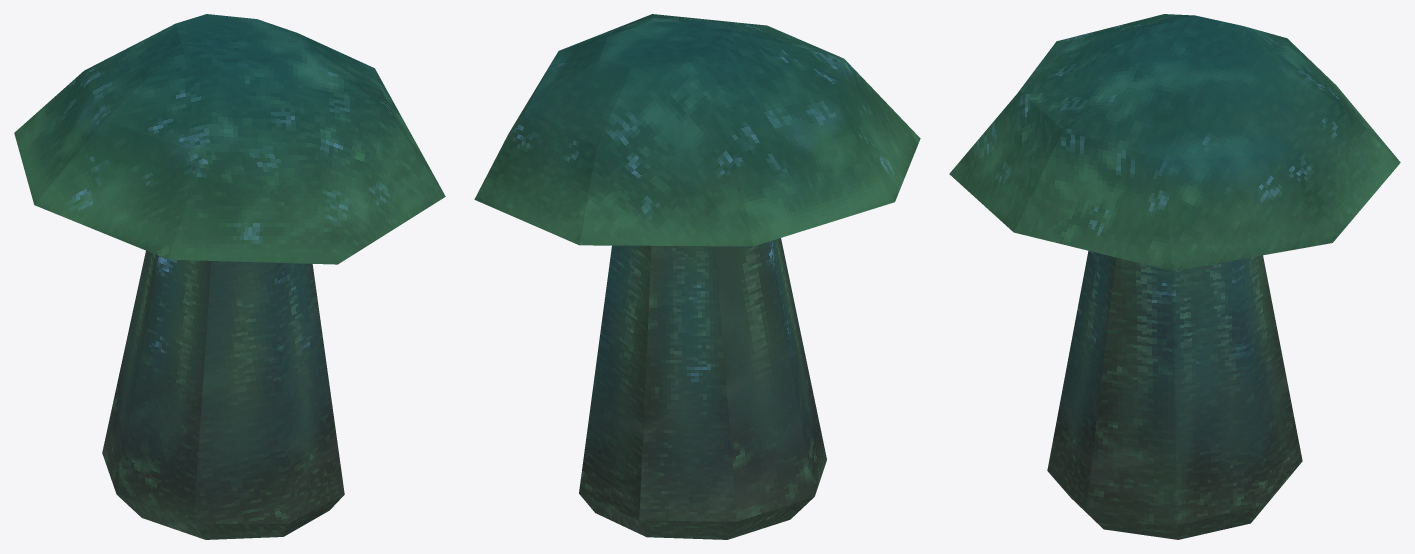
Rendered from ChunkyMushroom.glb.
3 renders of one model, left to right at view 1: azimuth 30°, elevation 25°; view 2: azimuth 150°, elevation 25°; view 3: azimuth 270°, elevation 25°, orthographic. The views are drawn at different scales.
Visible parts, largest first — view 1: Cylinder.003; view 2: Cylinder.003; view 3: Cylinder.003.
Part boxes in pixels (<box>): Cylinder.003: <box>14,14,445,539</box>; Cylinder.003: <box>474,14,920,539</box>; Cylinder.003: <box>949,14,1400,539</box>.
Size of the model in its own units: 9.5 by 11.47 by 9.74.
1 material, 1 textured.
